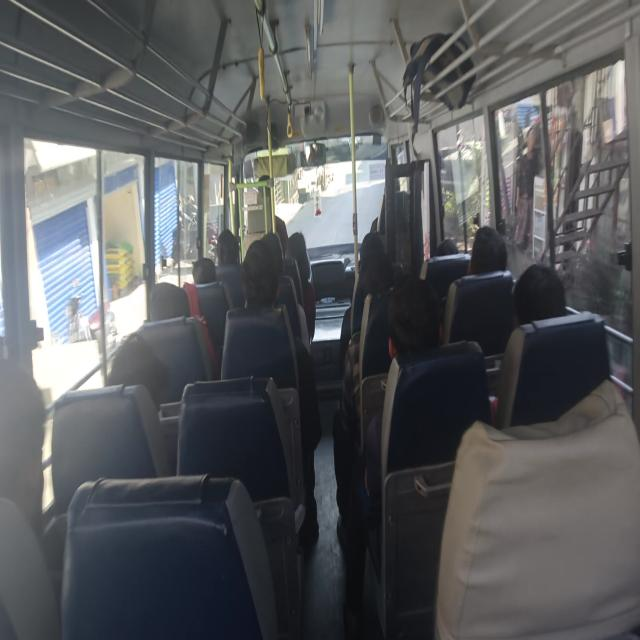person: (2, 352, 54, 536), (391, 275, 450, 367), (509, 256, 570, 344), (102, 328, 176, 395), (146, 271, 210, 328), (470, 221, 510, 282), (243, 242, 275, 314), (288, 220, 313, 282), (358, 260, 398, 298), (372, 171, 409, 210), (215, 216, 245, 264), (252, 164, 282, 211), (263, 227, 288, 282), (358, 227, 388, 266), (193, 255, 218, 290), (435, 230, 461, 263)
